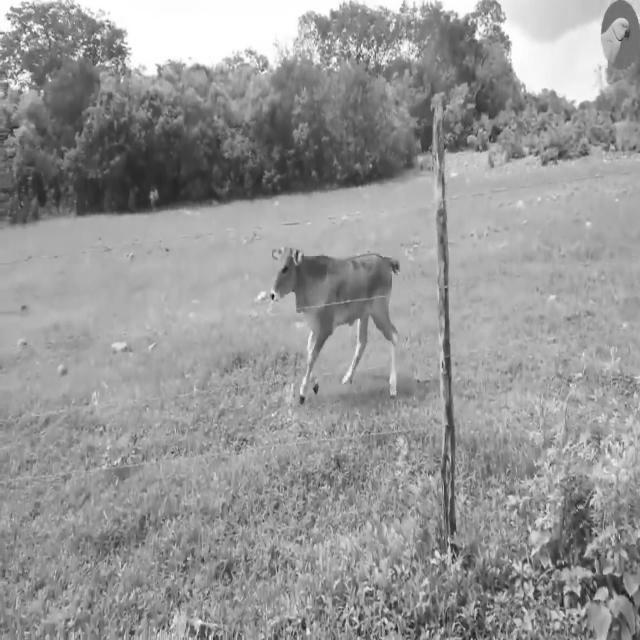cow: (272, 248, 399, 402)
